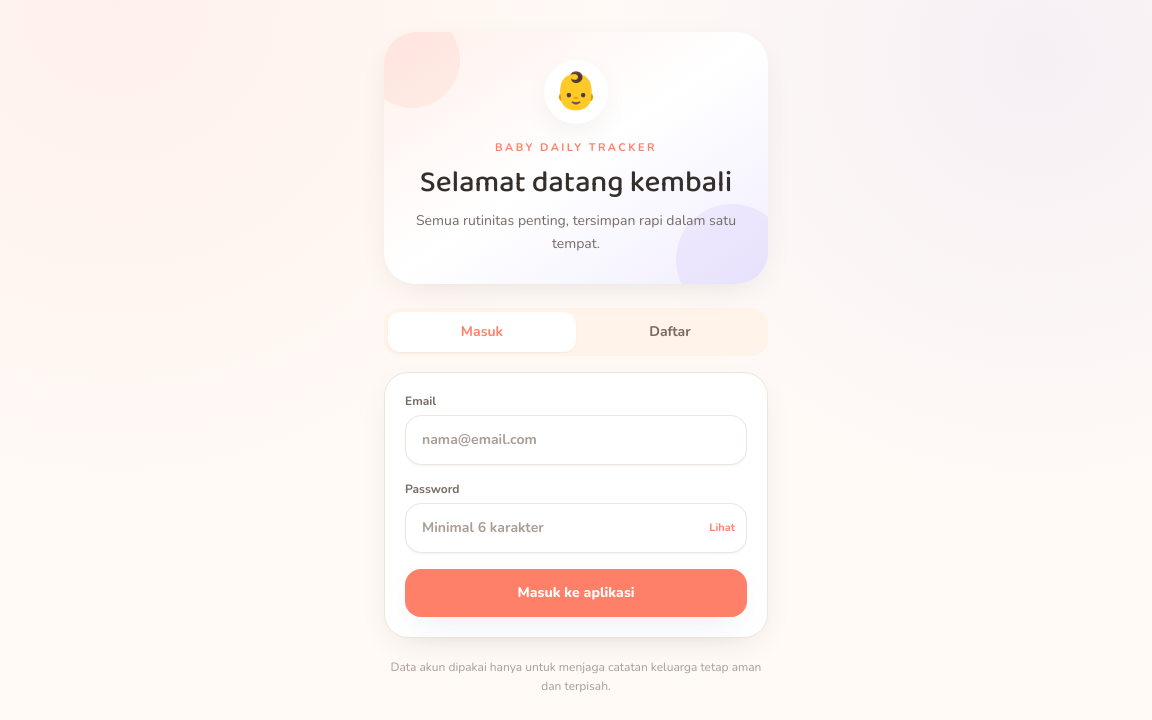
Test case: AuthScreen › switches to registration without losing accessible labels
Click the button "Daftar" at (670, 332), box [576, 312, 764, 352]
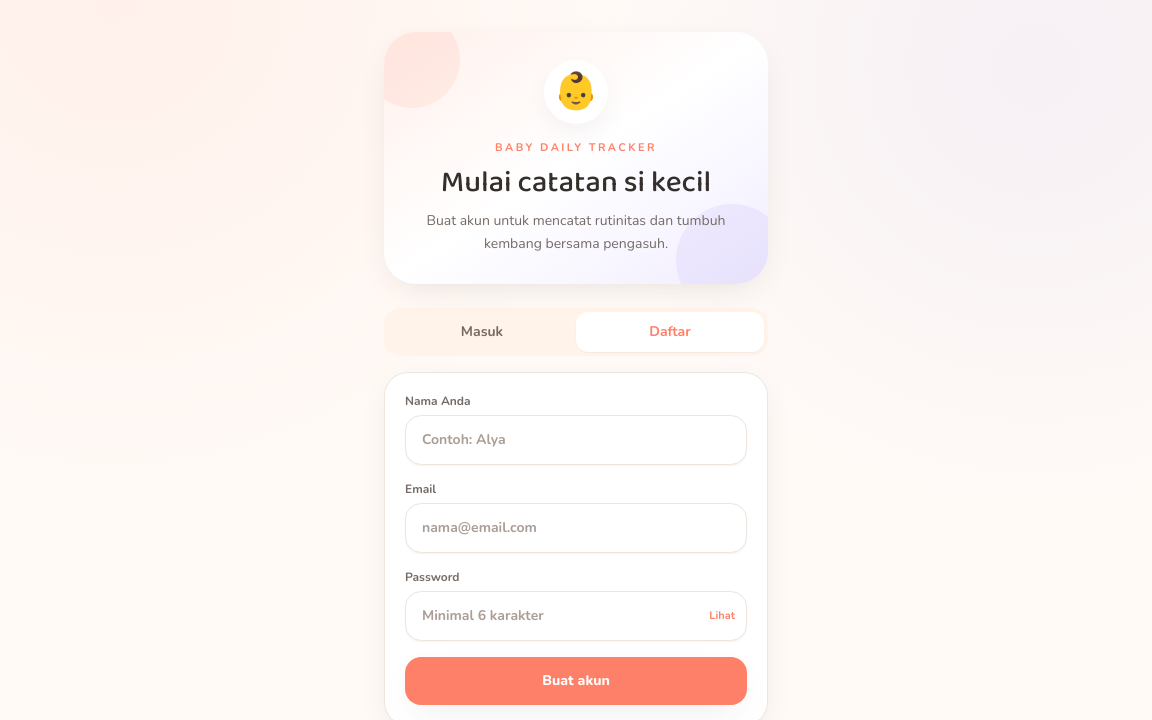
expect the field labelled "Nama Anda" is shown: met, box [405, 414, 747, 464]
expect the button "Buat akun" is shown: met, box [405, 656, 747, 704]
